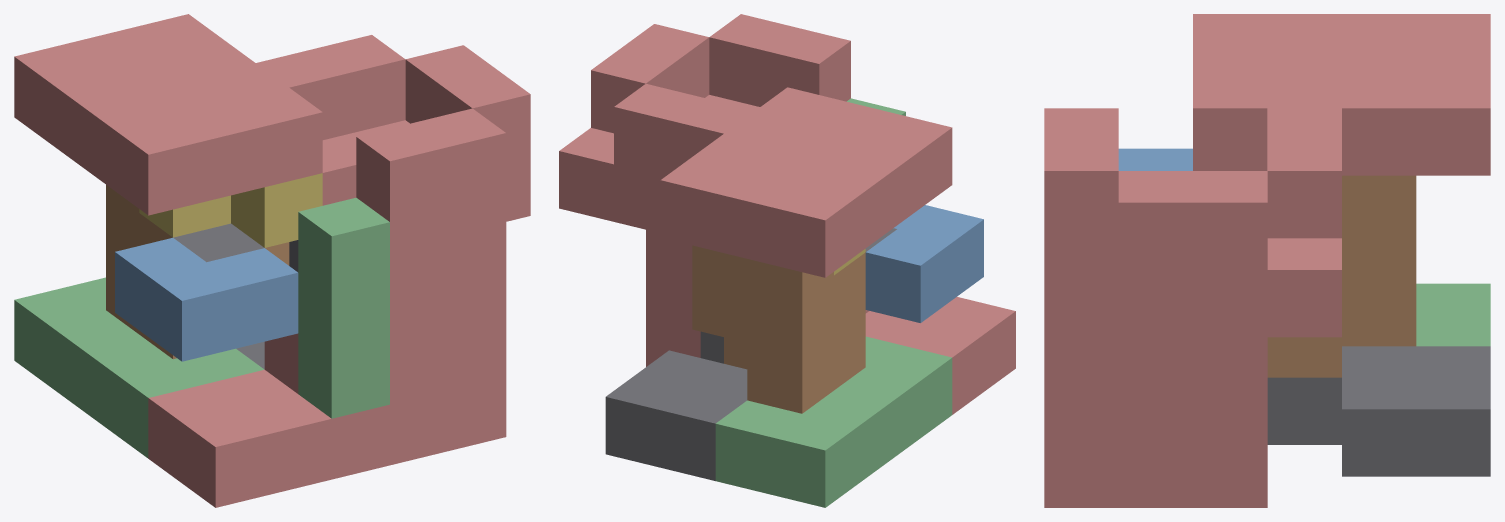
File: voxel_export.glb
3 views of the same model, side by side, from view 1: azimuth 30°, elevation 25°; view 2: azimuth 150°, elevation 25°; view 3: azimuth 270°, elevation 25° (orthographic). The views are drawn at different scales.
Size of the model in its own units: 6 by 5 by 6.
